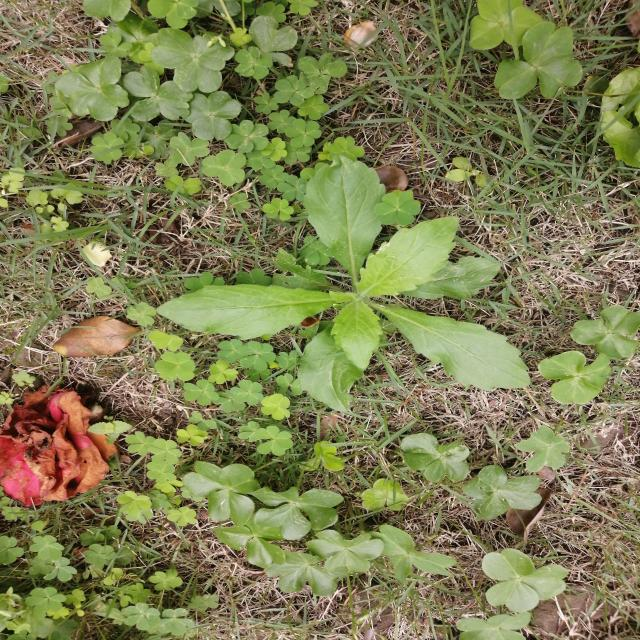horseweed: (170, 177, 527, 396)
